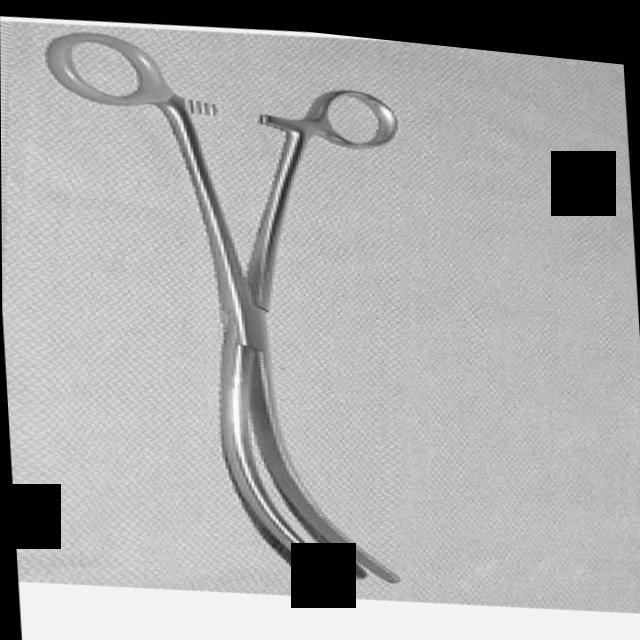Doyel Instestinal Forceps: (43, 9, 432, 601)
